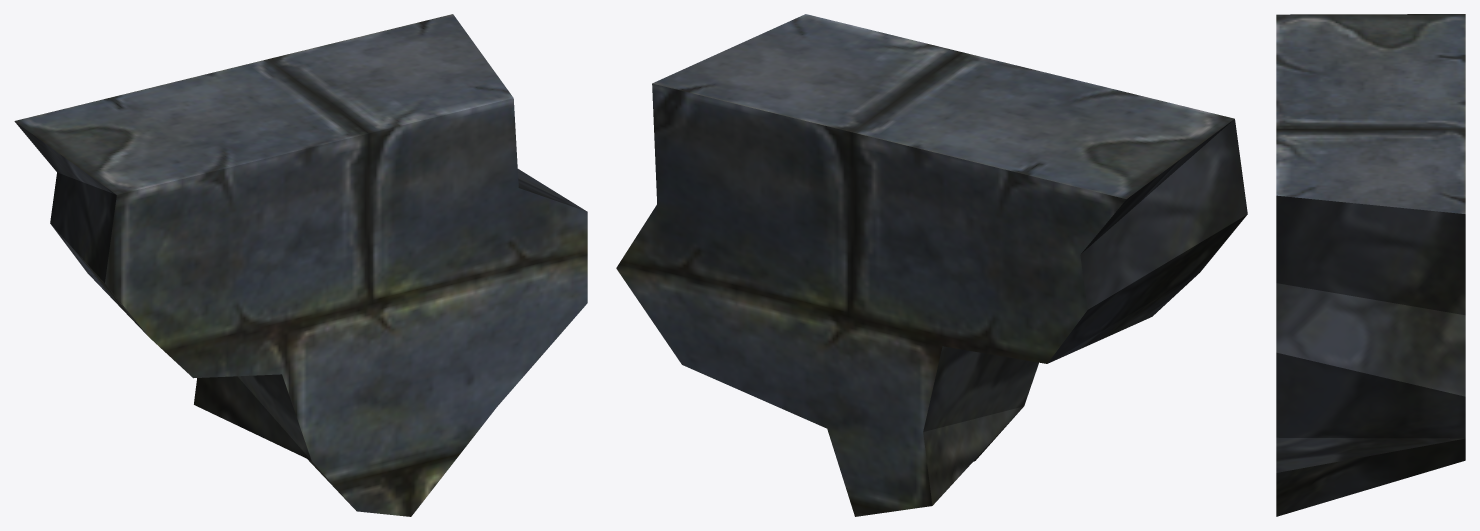
Rendered from C_qiang005.fbx.
3 renders of one model, left to right at view 1: azimuth 30°, elevation 25°; view 2: azimuth 150°, elevation 25°; view 3: azimuth 270°, elevation 25°, orthographic. The views are drawn at different scales.
Visible parts, largest first — view 1: C_qiang005; view 2: C_qiang005; view 3: C_qiang005.
Part boxes in pixels (box(x1,y1,x2,y2)): C_qiang005: box(14, 14, 587, 516); C_qiang005: box(616, 14, 1247, 516); C_qiang005: box(1276, 14, 1465, 516).
Size of the model in its own units: 131 by 102 by 47.61.
